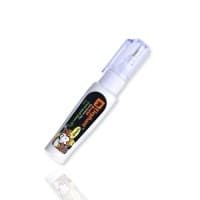Correction_fluid: (41, 35, 154, 170)
